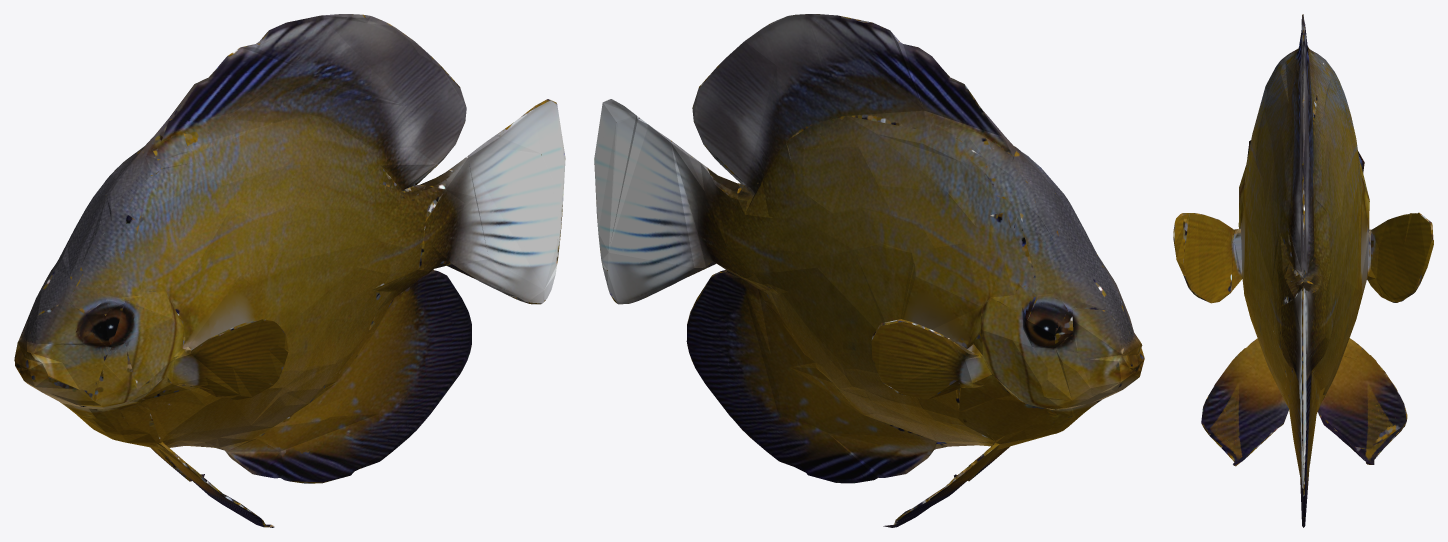
Rendered from reference_fish_smpl23_resized.glb.
3 views of the same model, side by side, from view 1: azimuth 30°, elevation 25°; view 2: azimuth 150°, elevation 25°; view 3: azimuth 270°, elevation 25° (orthographic).
Visible parts, largest first — view 1: world; view 2: world; view 3: world.
Boxes of the visible parts, box(x1,y1,x2,y2) form: world: box(14, 14, 565, 527); world: box(594, 14, 1144, 527); world: box(1173, 14, 1433, 527).
Size of the model in its own units: 1.99 by 1.64 by 0.829.
1 material, 1 textured.
